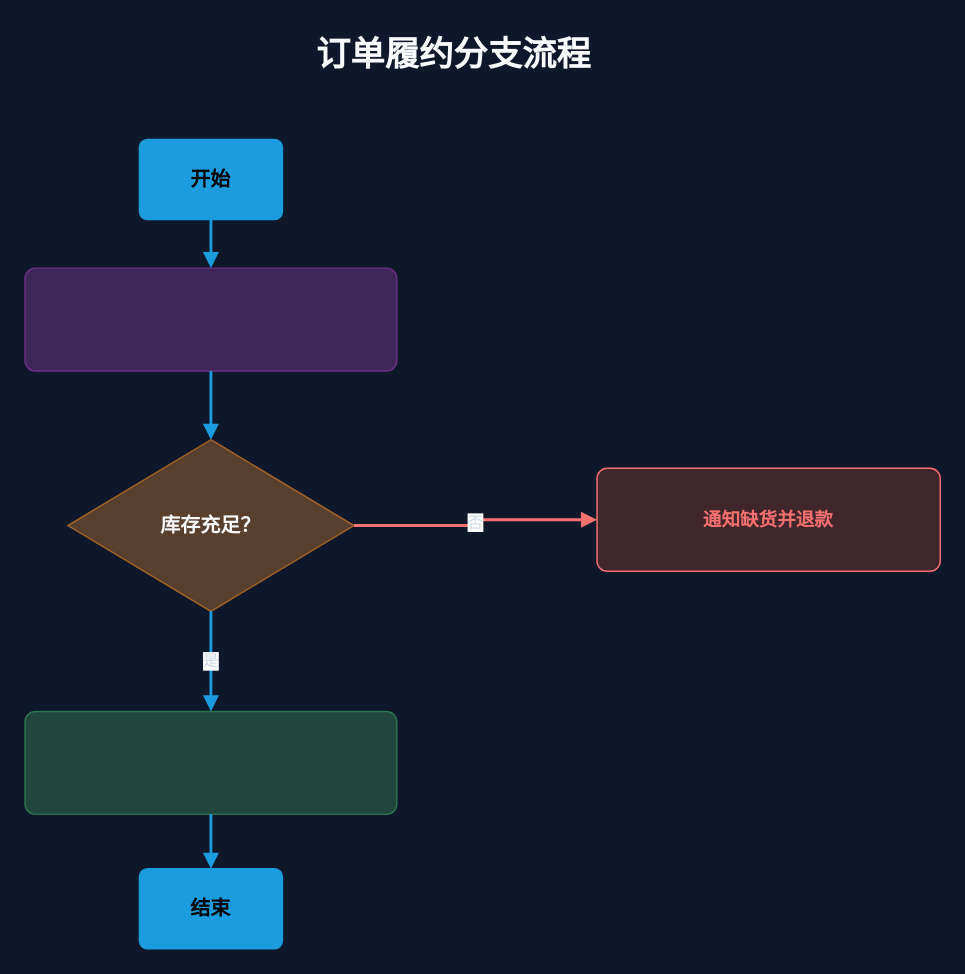
The diagram is 965 pixels wide and 974 high, and some of its shapes have lost their labels. The shapes that lost their labels are listed below. From the top down, each one's centre as x and y in pixels, then its label:
At point 210,319: "接收订单".
At point 210,762: "锁定库存并发货".
